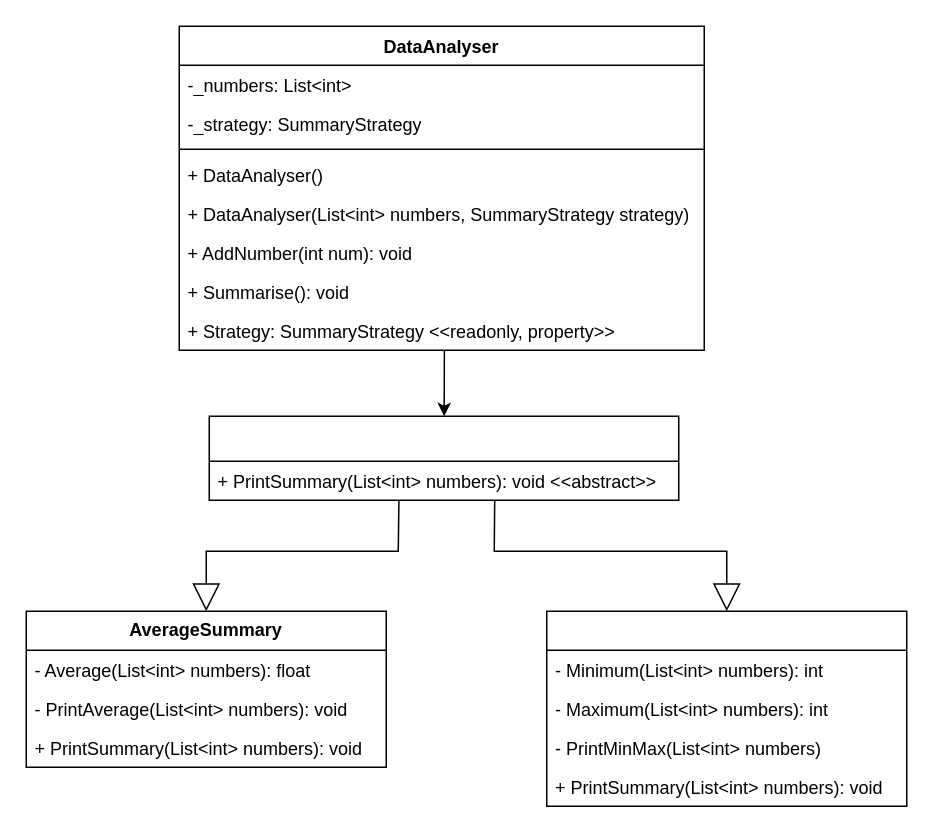
This 933x837 diagram has some shape labels left out. Here are the shapes that lost their labels. From the top down, the box of each, then its label:
(208, 415, 679, 500): SummaryStrategy <<abstract>>
(545, 610, 907, 806): MinMaxSummary
